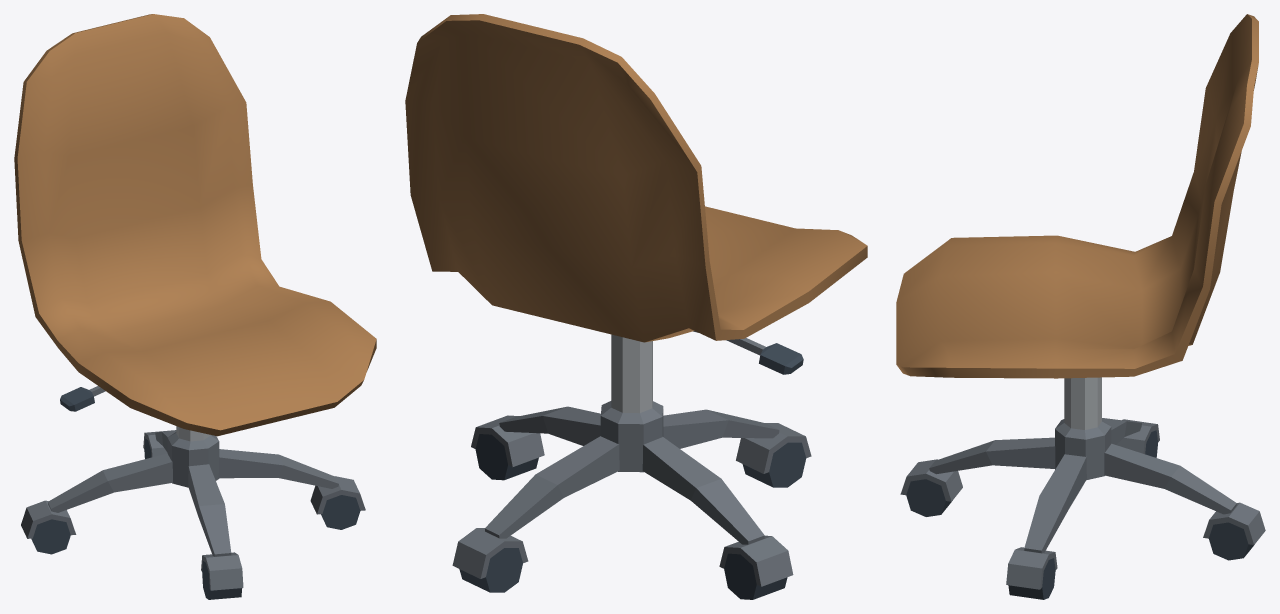
The model's file is Chair_01.FBX.
3 renders of one model, left to right at view 1: azimuth 30°, elevation 25°; view 2: azimuth 150°, elevation 25°; view 3: azimuth 270°, elevation 25°, orthographic. The views are drawn at different scales.
Visible parts, largest first — view 1: Chair_01; view 2: Chair_01; view 3: Chair_01.
Boxes of the visible parts, x1,y1,x2,y2 form: Chair_01: (14, 14, 376, 599); Chair_01: (405, 14, 867, 599); Chair_01: (896, 14, 1265, 599).
Bounding box in the file's own units: 67.95 × 101 × 68.73.
